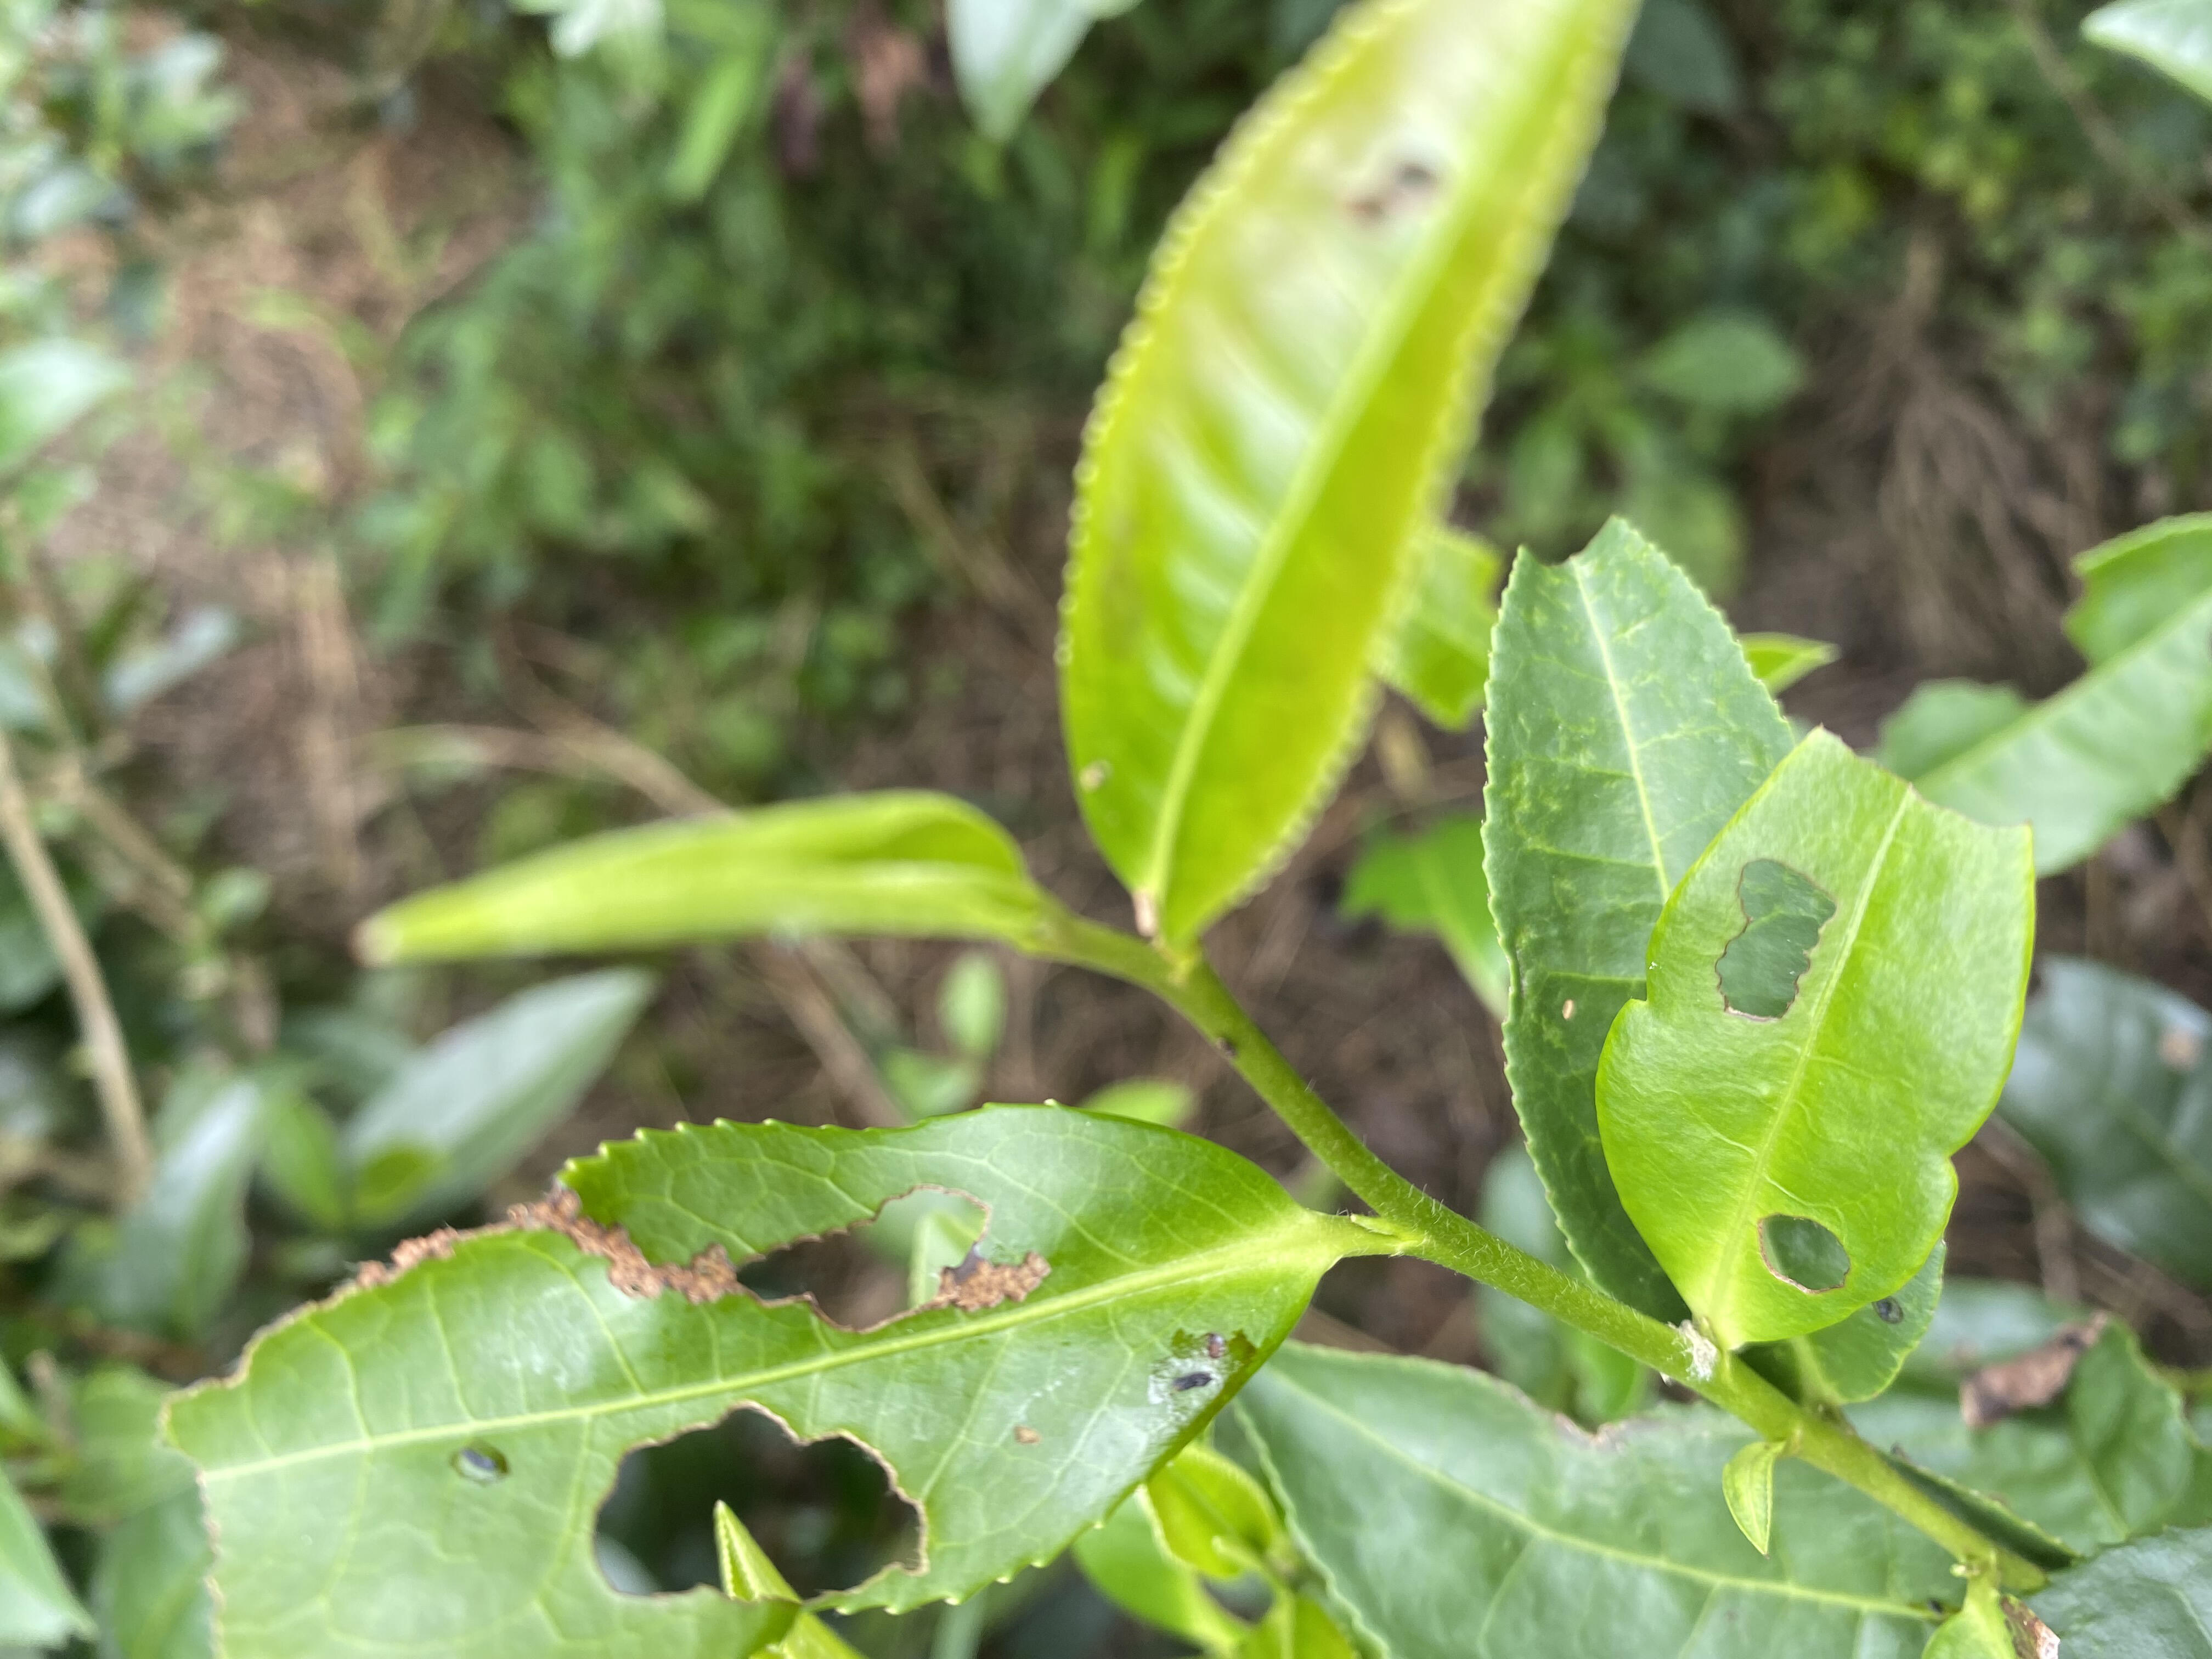chihuo_high: (155, 1096, 1320, 1656), (1588, 728, 2034, 1347)
tanju_low: (1052, 2, 1637, 957)
